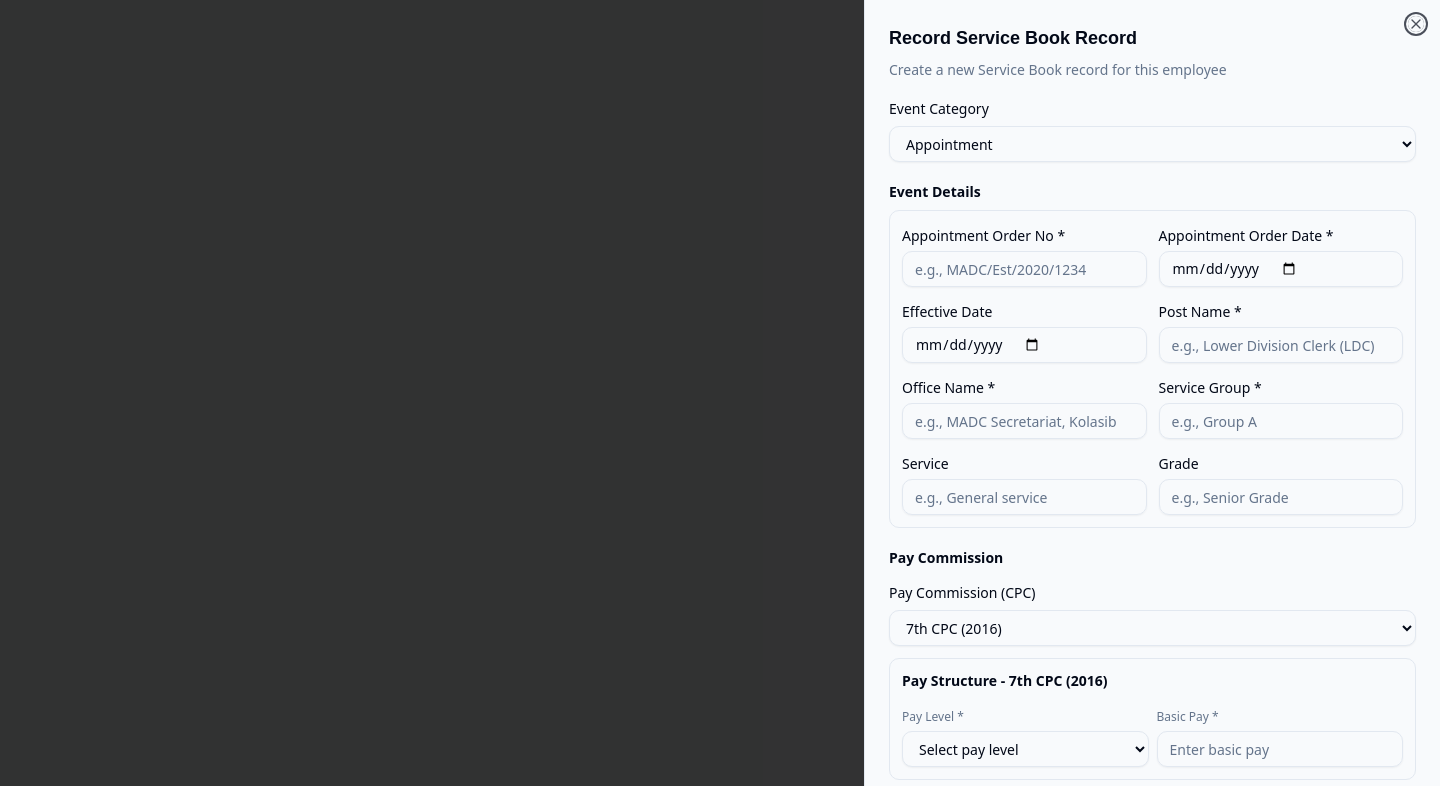
RecordServiceBookRecordDialog fallback mode › renders readable labels for select options in fallback fields
Select "Promotion" in the dropdown labelled "Event Category" at (1152, 144), box x1=889 y1=126 x2=1416 y2=162
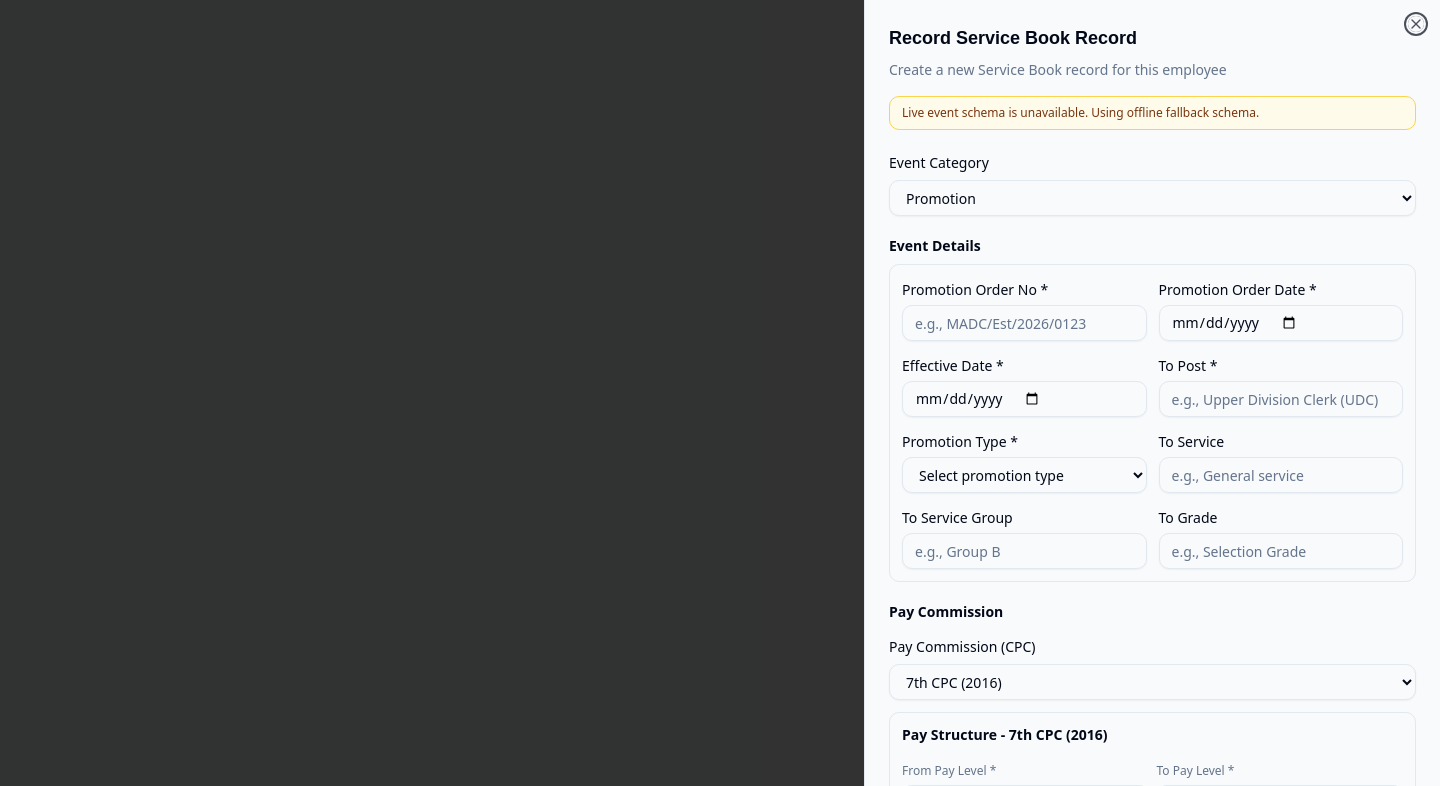
expect the dropdown labelled "Promotion Type *" is shown: met, box x1=902 y1=457 x2=1146 y2=493
